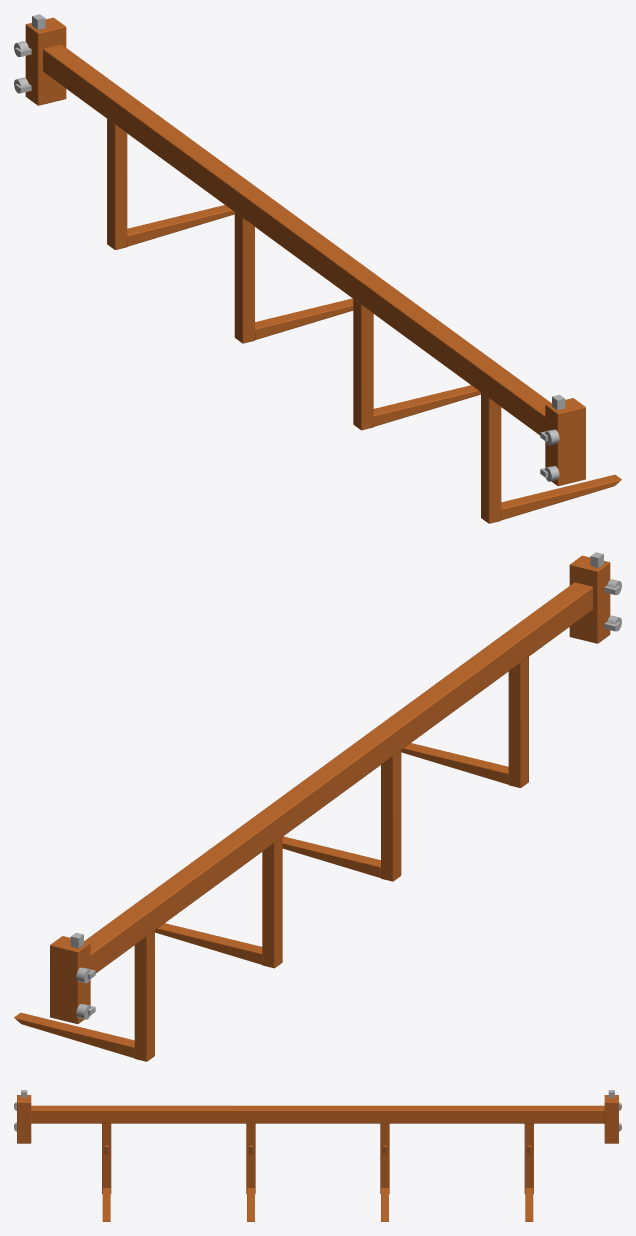
The model's file is sorter_carriage.glb.
3 views of the same model, one above another, from view 1: azimuth 30°, elevation 25°; view 2: azimuth 150°, elevation 25°; view 3: azimuth 270°, elevation 25° (orthographic). The views are drawn at different scales.
Visible parts, largest first — view 1: Carriage, CarriageRollers; view 2: Carriage, CarriageRollers; view 3: Carriage, CarriageRollers.
Part boxes in pixels (box(x1,y1,x2,y2)): Carriage: box(25, 17, 621, 523); CarriageRollers: box(14, 14, 565, 481); Carriage: box(14, 555, 610, 1061); CarriageRollers: box(70, 552, 621, 1019); Carriage: box(17, 1095, 618, 1221); CarriageRollers: box(14, 1090, 621, 1131).
Bounding box in the file's own units: 0.9578 × 1.07 × 5.9.
